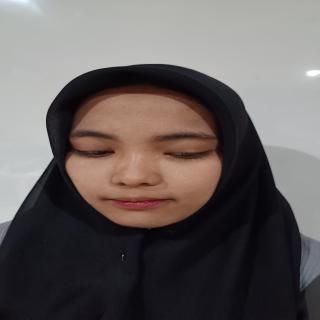Sedih: (57, 83, 242, 235)
